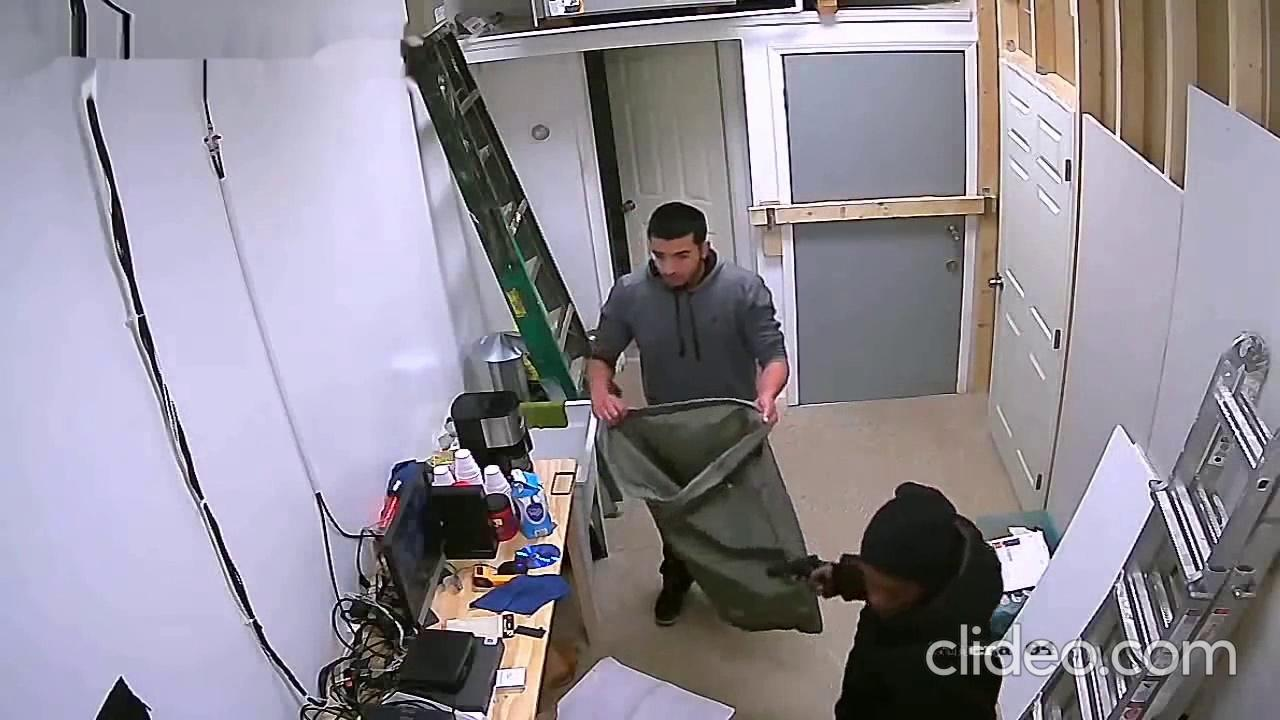person: (583, 200, 791, 628), (806, 478, 1005, 720)
pistol: (766, 552, 841, 600)
